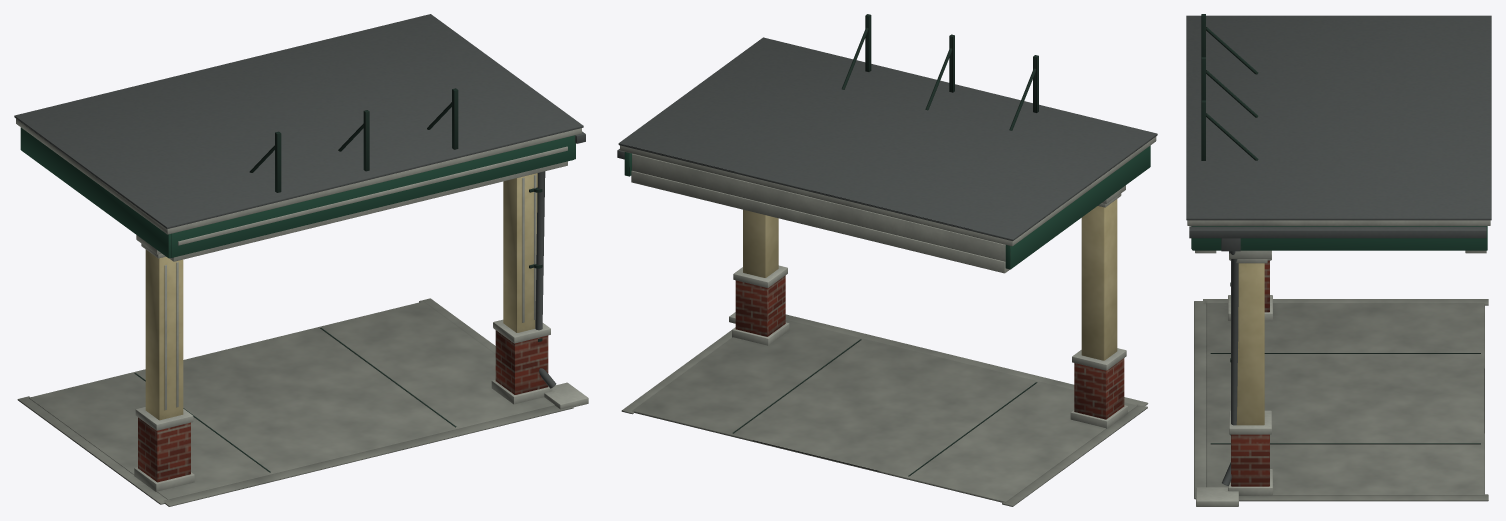
The model's file is CTCC_LOC01_EntryCanopy.fbx.
3 renders of one model, left to right at view 1: azimuth 30°, elevation 25°; view 2: azimuth 150°, elevation 25°; view 3: azimuth 270°, elevation 25°, orthographic. The views are drawn at different scales.
Visible parts, largest first — view 1: CTCC_LOC01_EntryCanopy_LOD0; view 2: CTCC_LOC01_EntryCanopy_LOD0; view 3: CTCC_LOC01_EntryCanopy_LOD0.
Part boxes in pixels (x1,y1,x2,y2): CTCC_LOC01_EntryCanopy_LOD0: (14,14,588,506); CTCC_LOC01_EntryCanopy_LOD0: (617,14,1157,506); CTCC_LOC01_EntryCanopy_LOD0: (1186,14,1491,506).
Size of what is drawn, in the model's own units: 5.06 by 3.89 by 3.14.
